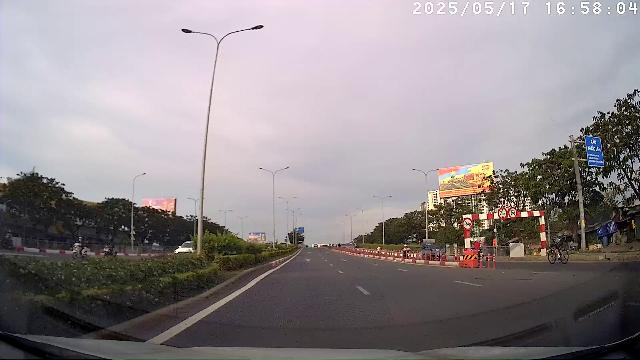103a-cam-oto: (508, 207, 517, 219)
